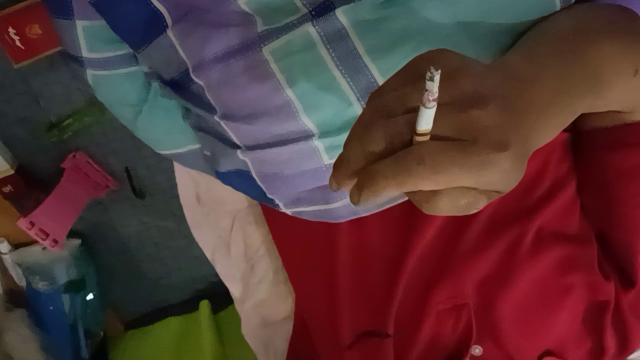Smoking: (411, 65, 443, 163)
